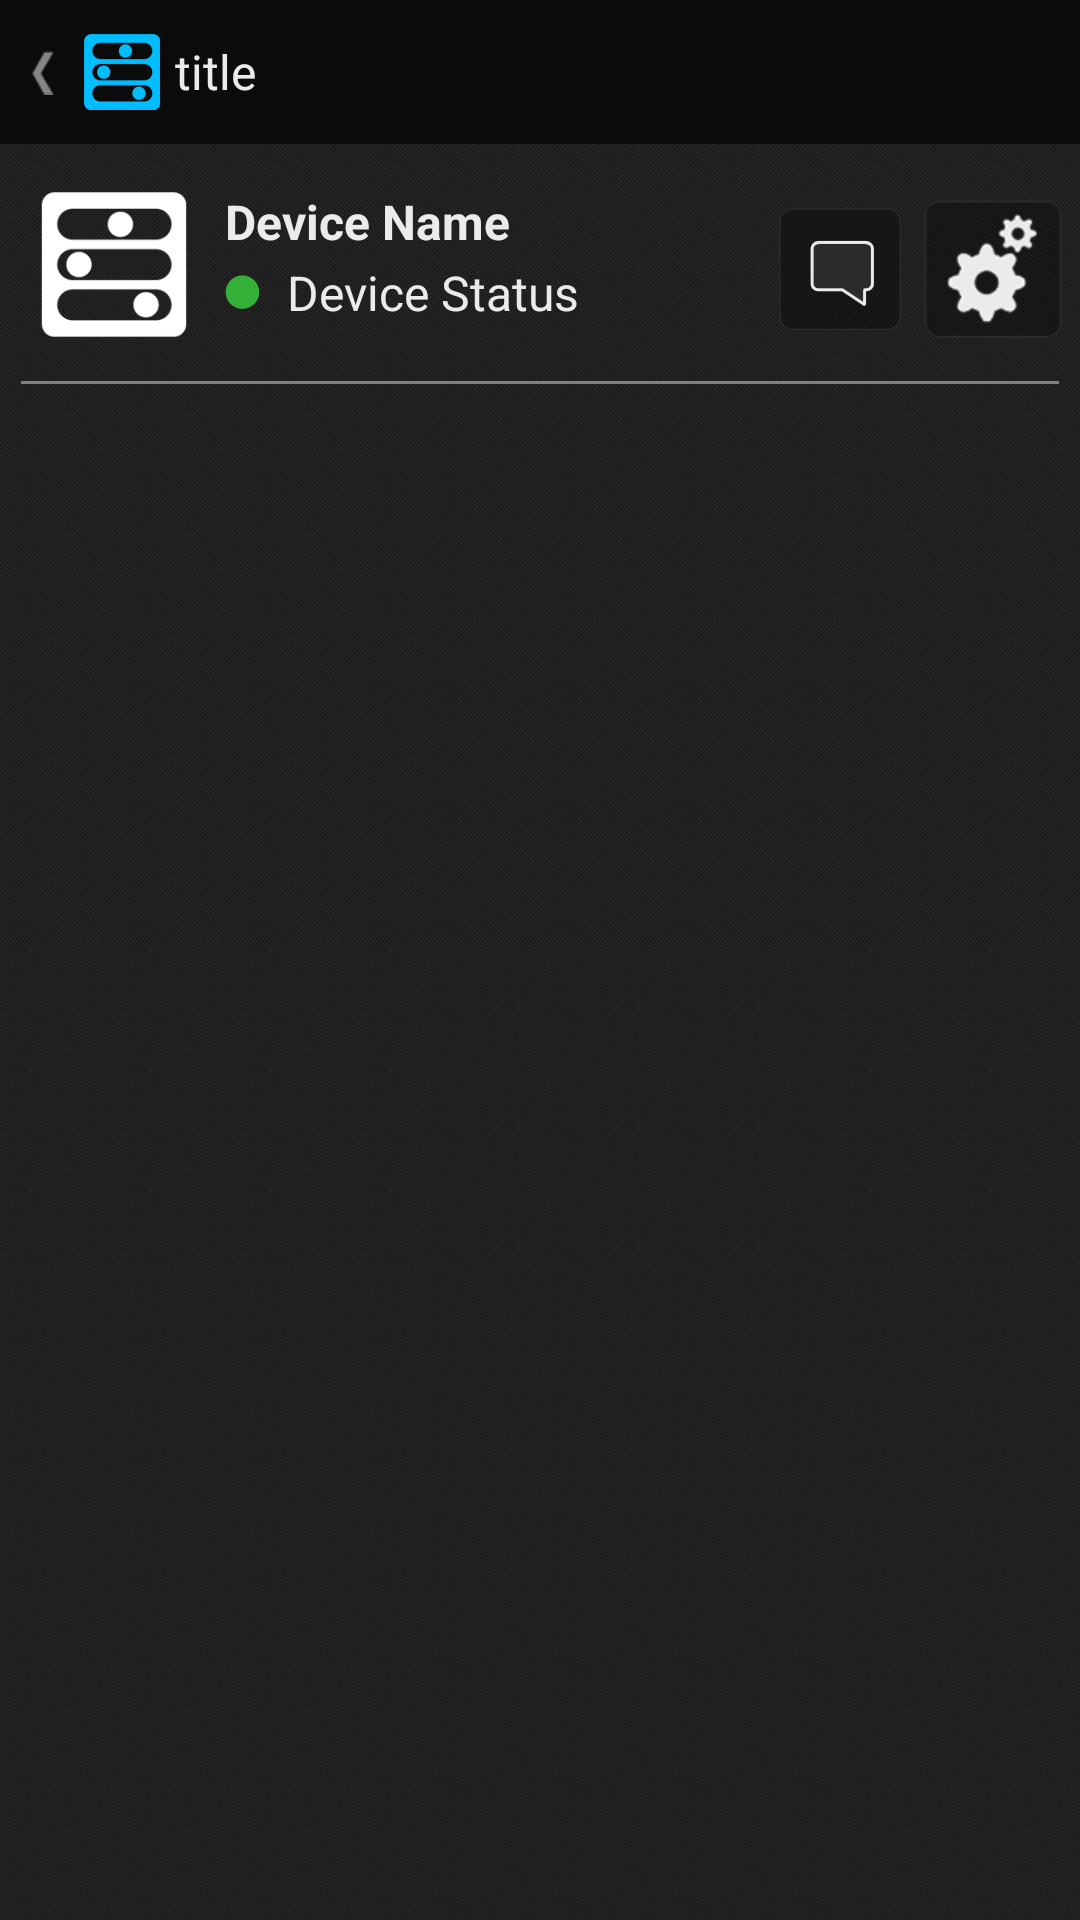

Screen size 1080x1920. Icon name, then its box in pixels as bbox(x1, y1, x2, y2):
back: bbox(32, 52, 54, 95)
device details notification: bbox(810, 241, 874, 306)
device details settings: bbox(948, 214, 1037, 322)
devices reg: bbox(41, 192, 187, 337)
devices status available: bbox(225, 275, 259, 309)
